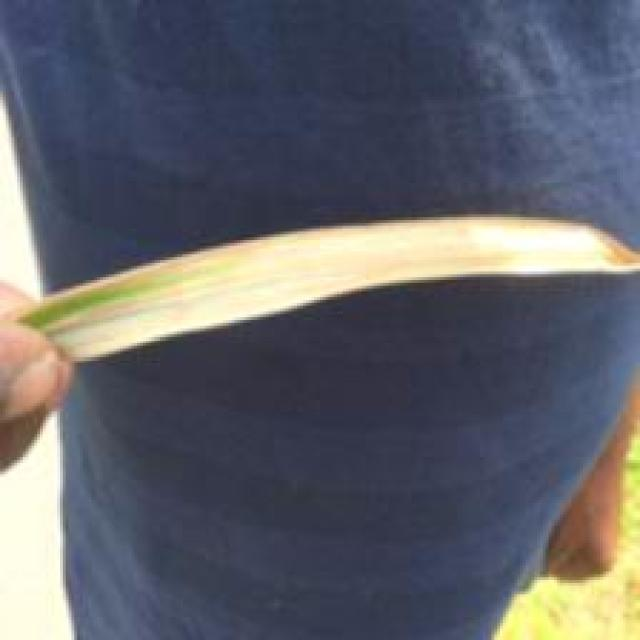Bacterial_Leaf_Blight: (92, 208, 637, 283)
